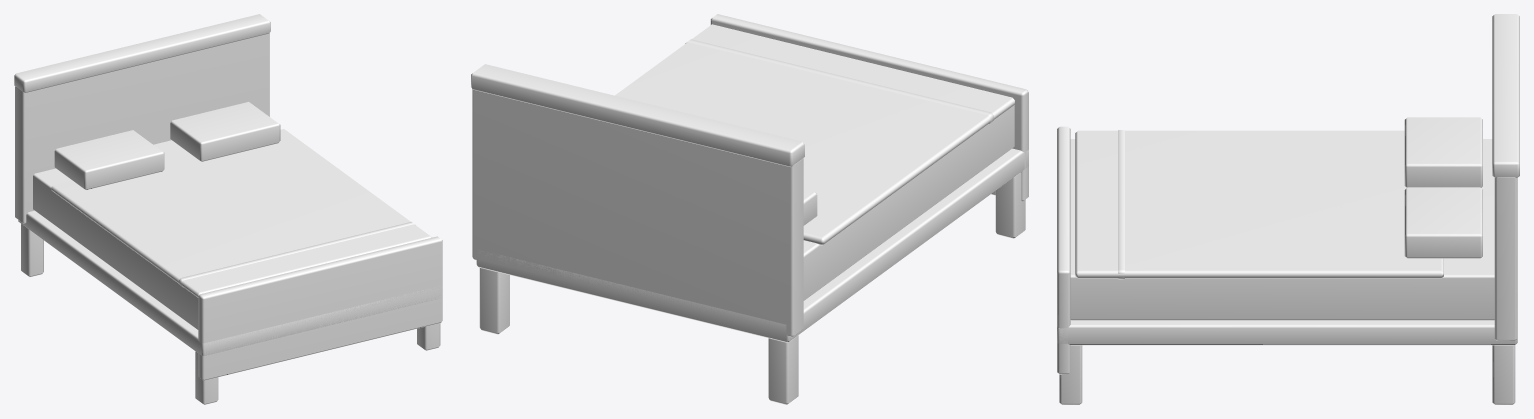
Rendered from bed.glb.
The picture shows the model from 3 angles, left to right: view 1: azimuth 30°, elevation 25°; view 2: azimuth 150°, elevation 25°; view 3: azimuth 270°, elevation 25°; orthographic projection. The views are drawn at different scales.
Visible parts, largest first — view 1: Bed; view 2: Bed; view 3: Bed.
Part boxes in pixels (<box>): Bed: <box>14,14,442,404</box>; Bed: <box>471,14,1028,404</box>; Bed: <box>1057,14,1519,404</box>.
Size of the model in its own units: 1.54 by 1.18 by 2.01.
Materials: 1 (1 with a texture image).
